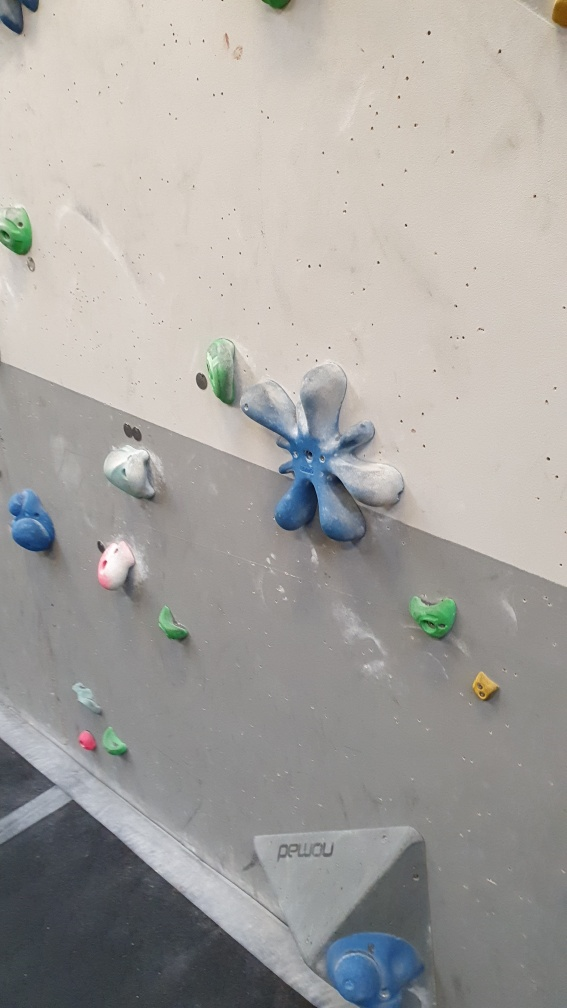Hand Start: (129, 422, 145, 441), (194, 370, 210, 388), (22, 255, 38, 270)
Jug: (202, 336, 244, 403), (114, 443, 157, 498), (411, 595, 461, 640), (98, 543, 139, 596), (154, 606, 191, 648), (101, 726, 131, 765)
Octopus Pinch: (237, 364, 408, 549)
Sloper: (327, 926, 422, 1007), (1, 484, 61, 553)
